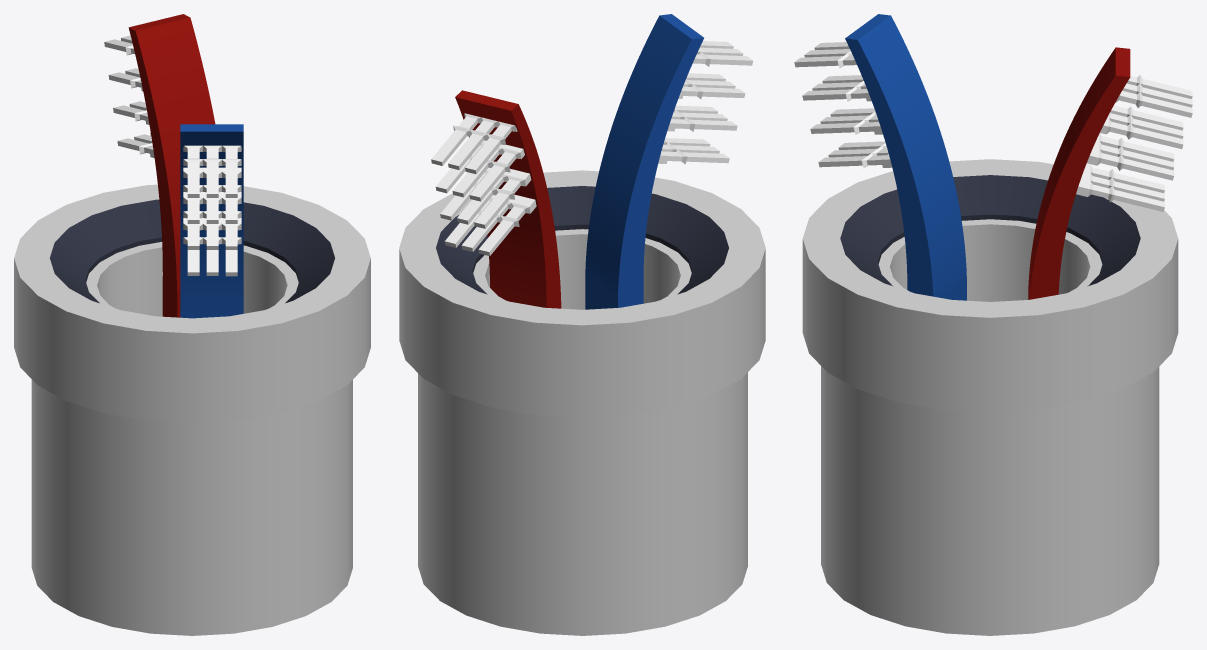
The model's file is Tooth-Brush-Cup.obj.
3 views of the same model, side by side, from view 1: azimuth 30°, elevation 25°; view 2: azimuth 150°, elevation 25°; view 3: azimuth 270°, elevation 25° (orthographic). The views are drawn at different scales.
Visible parts, largest first — view 1: mergedBlocks; view 2: mergedBlocks; view 3: mergedBlocks.
Boxes of the visible parts, bbox=[...] form: mergedBlocks: bbox=[14, 14, 370, 635]; mergedBlocks: bbox=[399, 14, 765, 635]; mergedBlocks: bbox=[794, 14, 1192, 635].
Size of the model in its own units: 0.1944 by 0.2963 by 0.2063.
